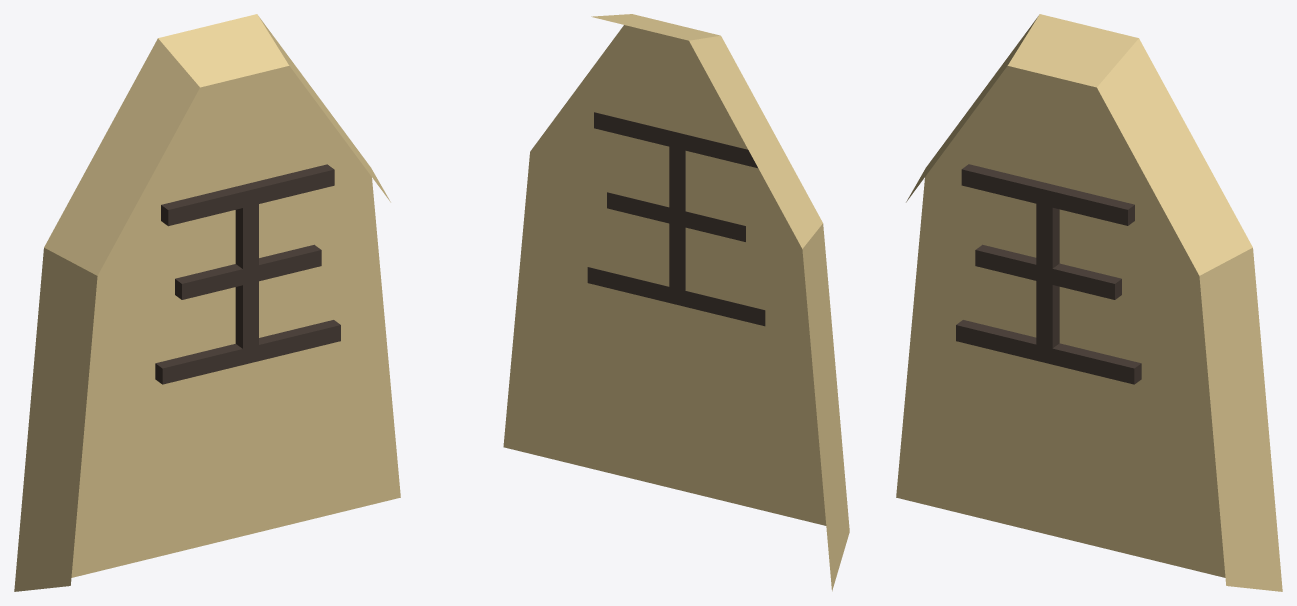
Rendered from koma-ou.glb.
3 renders of one model, left to right at view 1: azimuth 30°, elevation 25°; view 2: azimuth 150°, elevation 25°; view 3: azimuth 330°, elevation 25°, orthographic.
Visible parts, largest first — view 1: world; view 2: world; view 3: world.
Part boxes in pixels (x1,y1,x2,y2): world: [14, 14, 400, 591]; world: [503, 14, 849, 591]; world: [896, 14, 1282, 591].
Size of the model in its own units: 1.56 by 2 by 0.309.
